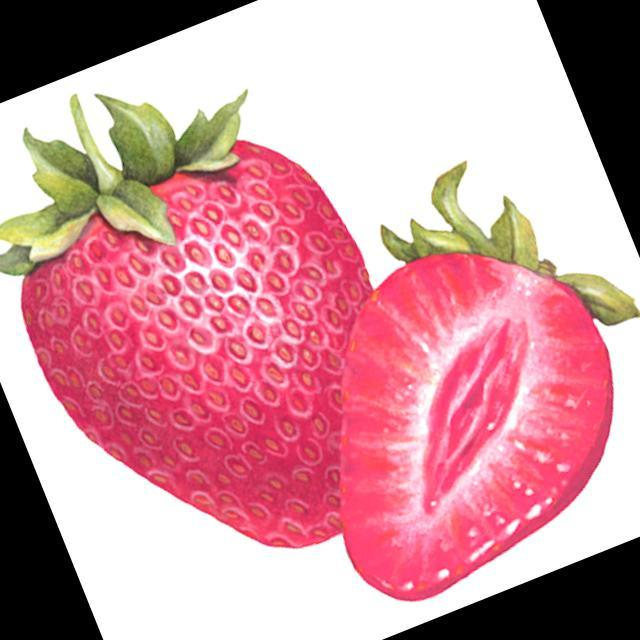strawberry: (0, 92, 371, 547), (341, 162, 640, 599)
